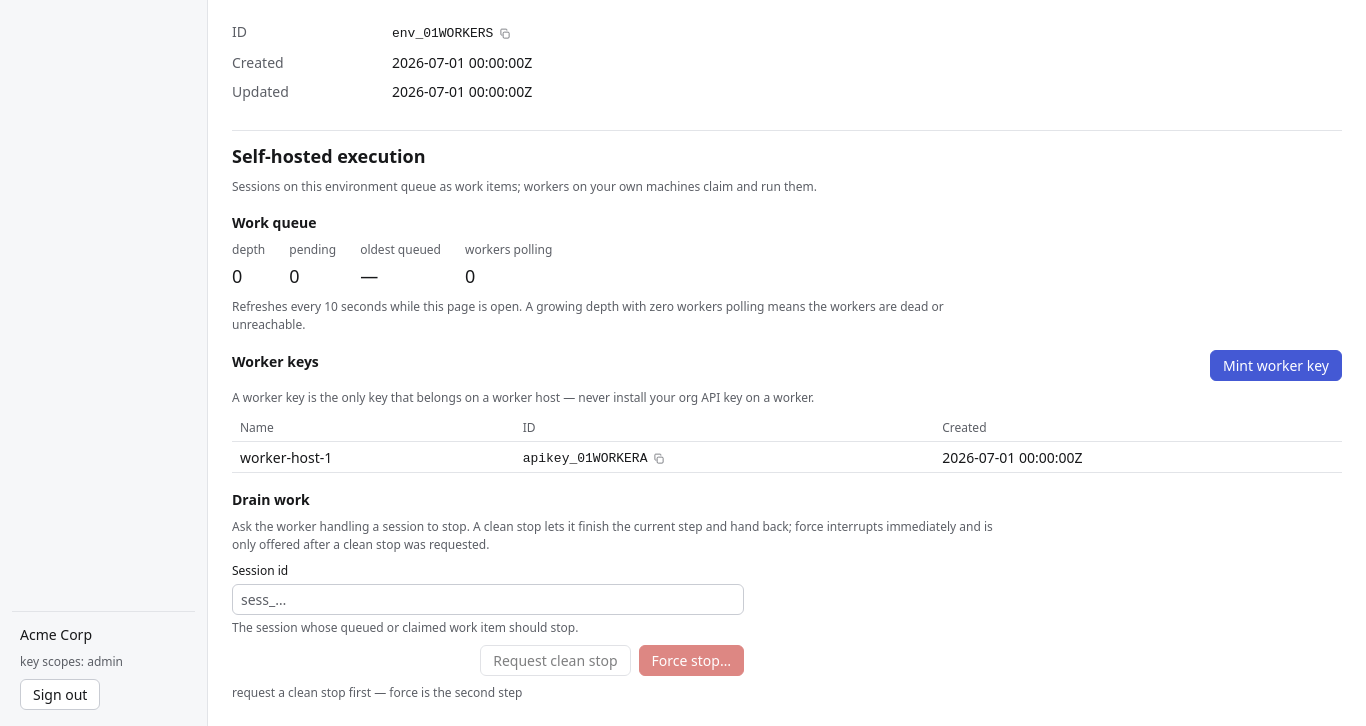
it: self-hosted drain (§9.2: force is the second step) › clean stop first; force unlocks only after, behind a typed confirmation
(page scrolled)
Type "sess_01STUCK" into the field labelled "Session id" at (488, 600), box [232,584,744,615]
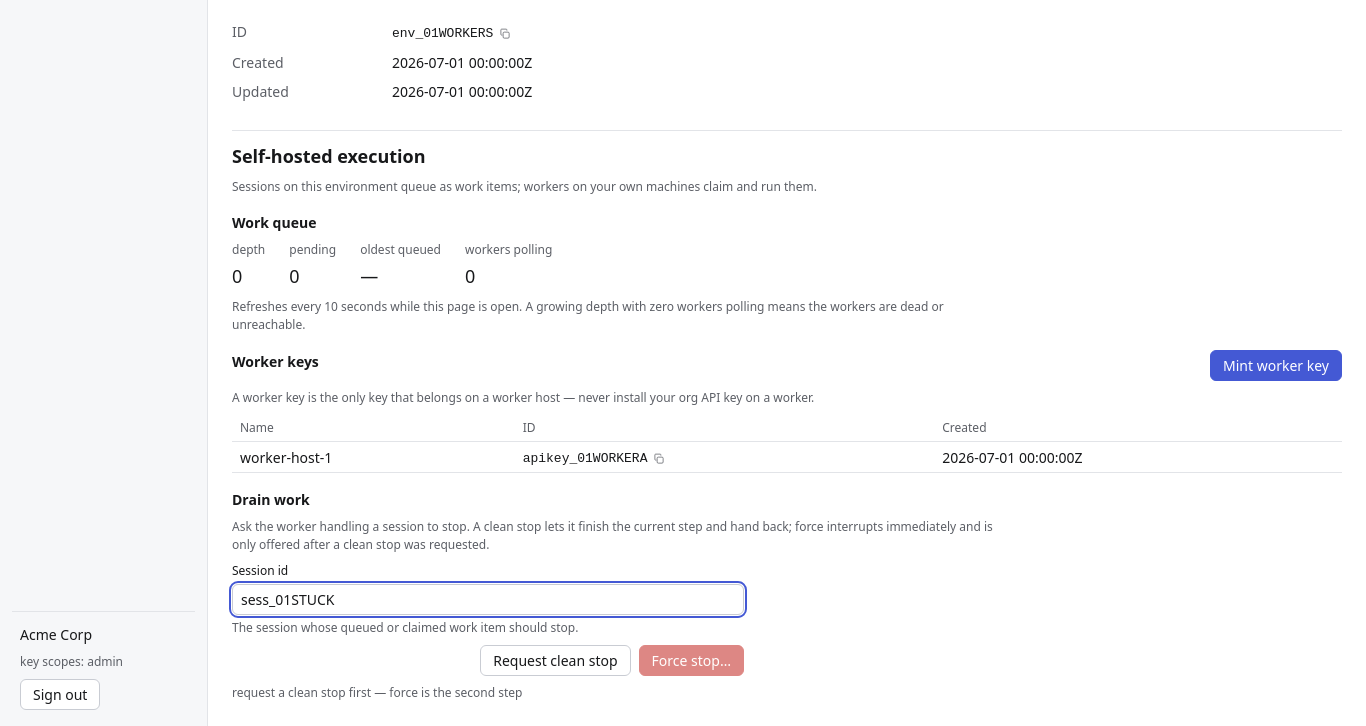
expect the button "Force stop…" is disabled: met, box [639,645,744,676]
Click the button "Request clean stop" at (555, 661), box [480,645,631,676]
(page scrolled)
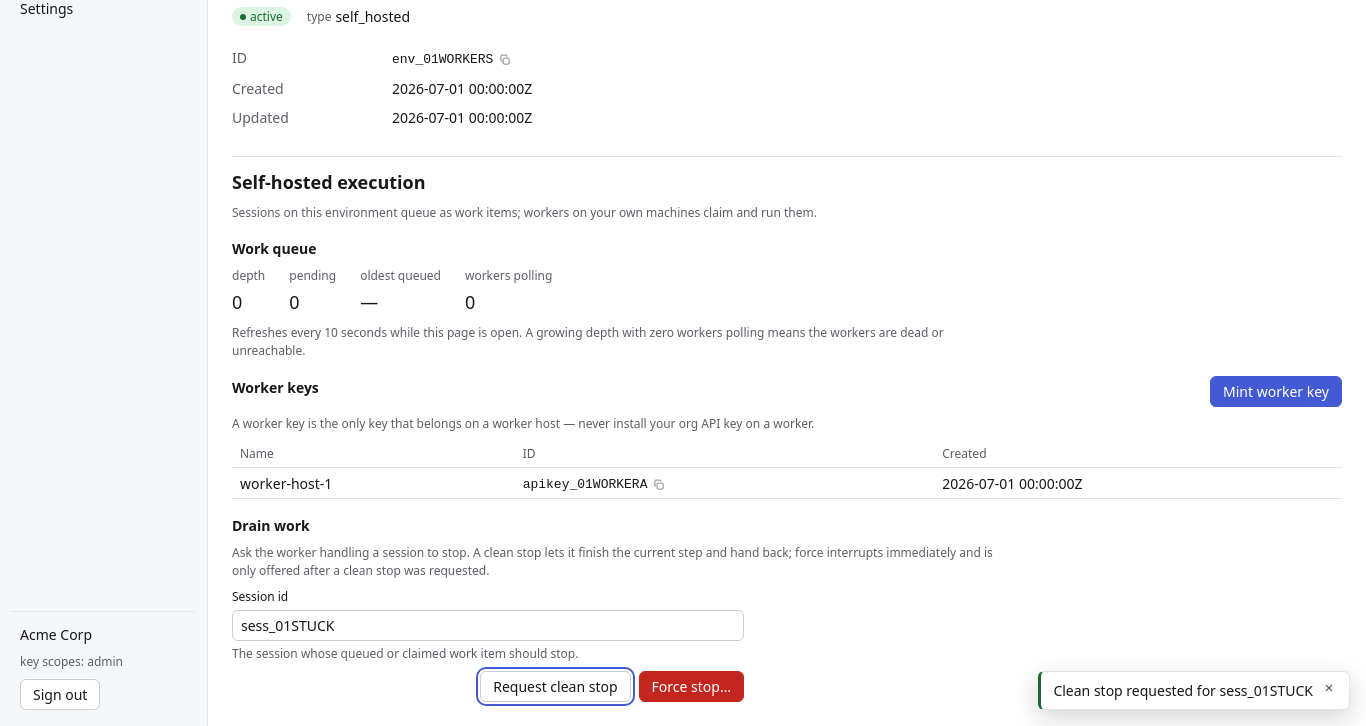
expect the text "Clean stop requested for sess_01STUCK" is shown: met, box [1053,680,1313,701]
expect the button "Force stop…" is enabled: met
Click the button "Force stop…" at (691, 687), box [639,671,744,702]
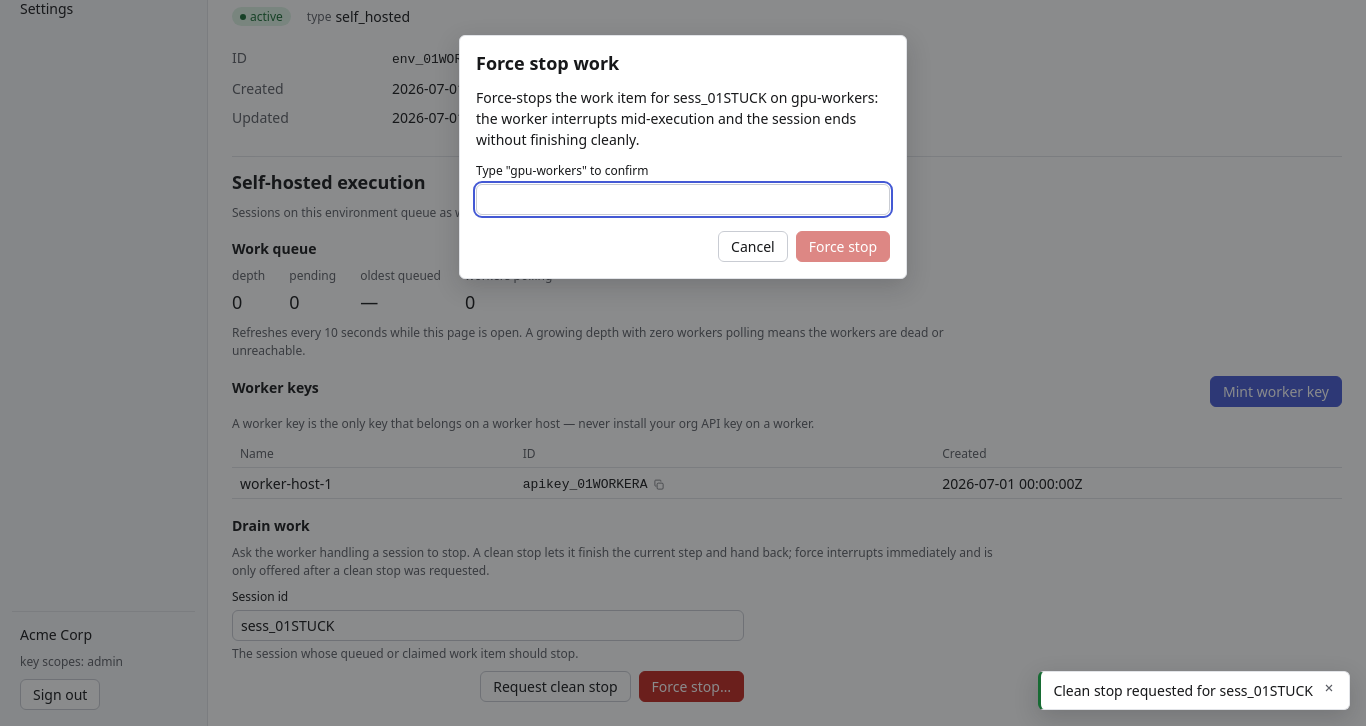
expect the text "interrupts mid-execution" is shown: met, box [476,88,878,149]
Type "gpu-workers" into the field labelled "Type \"gpu-workers\" to confirm" at (683, 200), box [476,184,890,215]
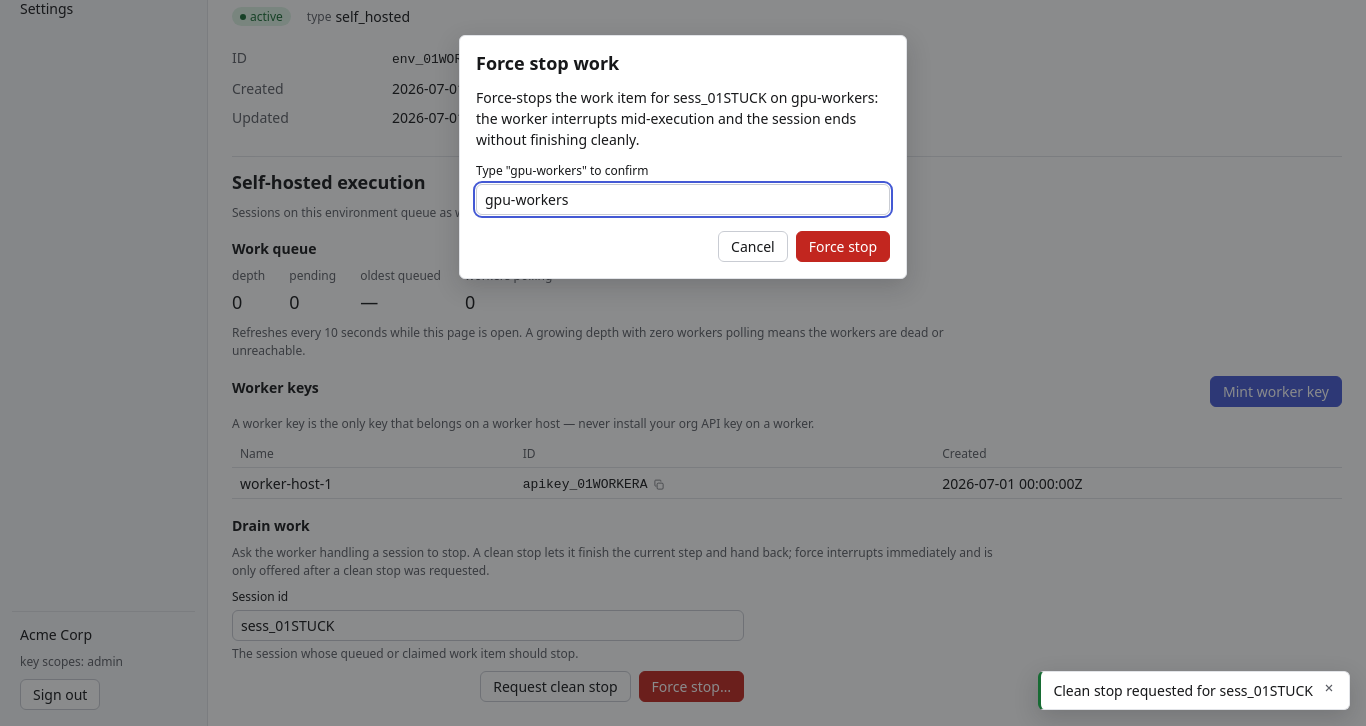
Click the button "Force stop" at (843, 247), box [796,231,890,262]
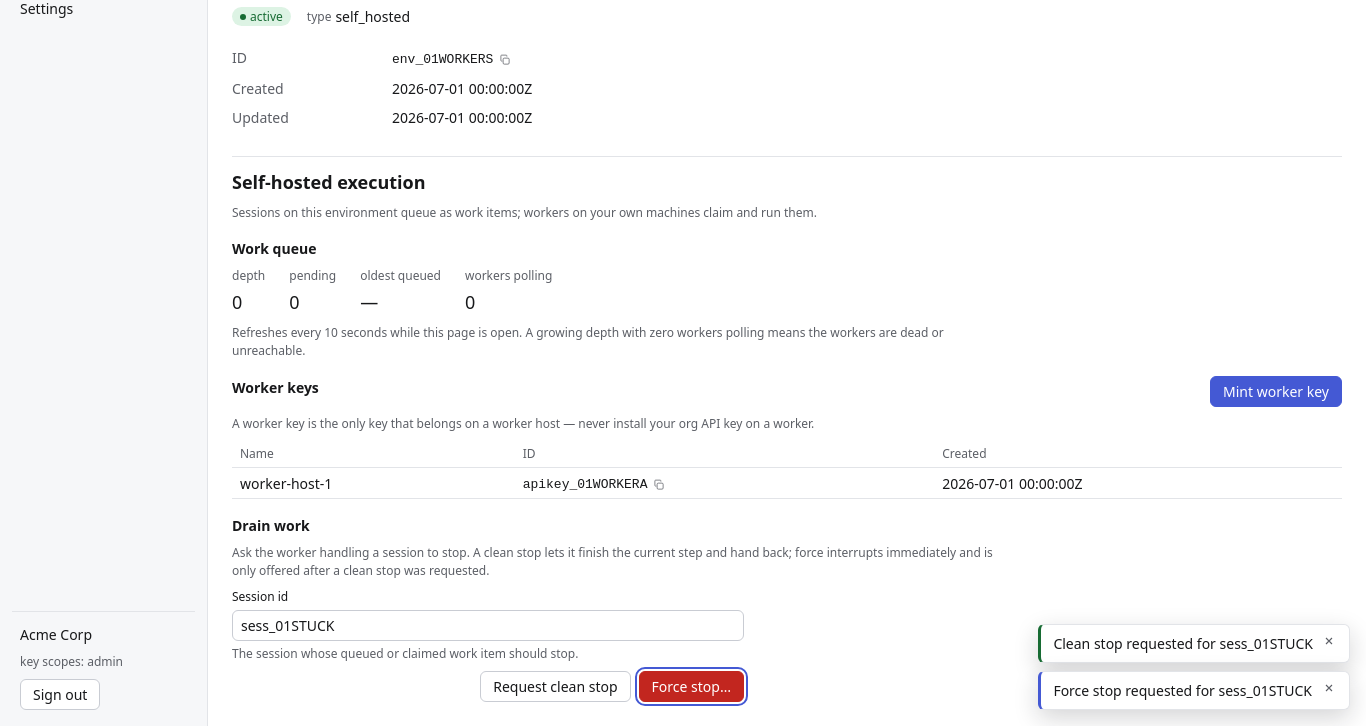
expect the text "Force stop requested for sess_01STUCK" is shown: met, box [1053,680,1313,701]
